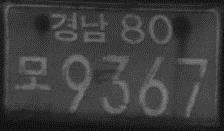0: (148, 13, 173, 46)
3: (97, 53, 132, 117)
6: (136, 54, 171, 118)
7: (176, 54, 209, 119)
8: (119, 12, 146, 43)
9: (59, 53, 93, 114)
경남_O: (49, 11, 108, 43)
모: (11, 54, 52, 94)
